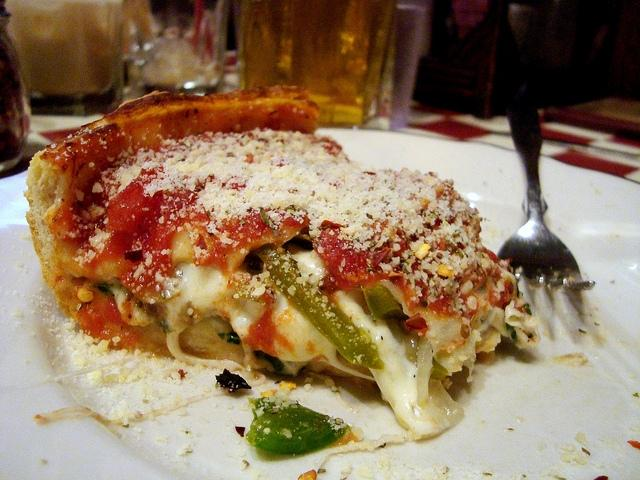bell pepper: (268, 248, 386, 369), (246, 394, 351, 455), (363, 285, 409, 320)
